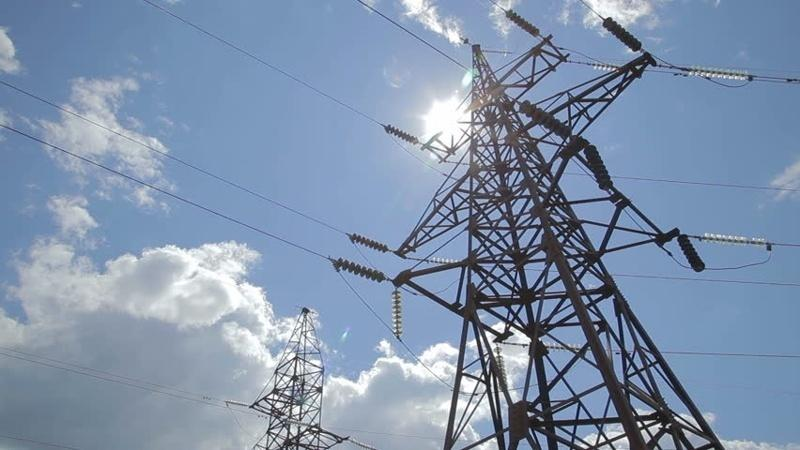power_tower: (350, 8, 760, 439), (235, 300, 343, 443)
